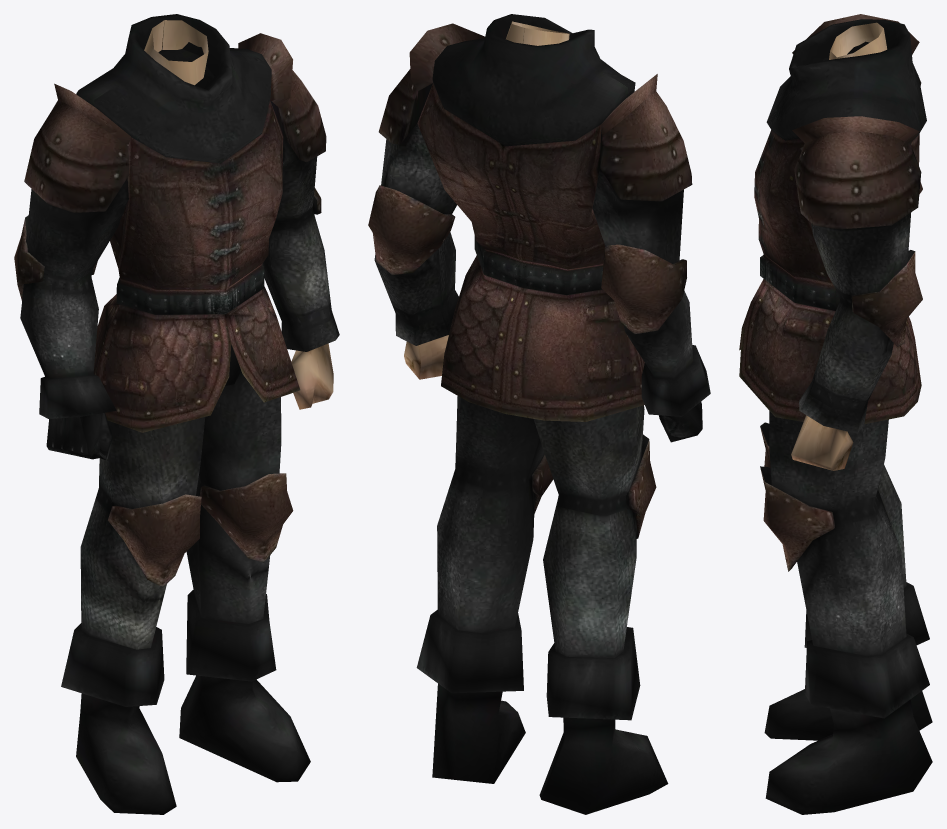
File: KM_BOOTLEG_LEATHER_ARCHER.glb
3 views of the same model, side by side, from view 1: azimuth 30°, elevation 25°; view 2: azimuth 150°, elevation 25°; view 3: azimuth 270°, elevation 25° (orthographic). The views are drawn at different scales.
Parts seen in each view (by area): view 1: KM_BOOTLEG_LEATHER_ARCHER; view 2: KM_BOOTLEG_LEATHER_ARCHER; view 3: KM_BOOTLEG_LEATHER_ARCHER.
Part boxes in pixels (x1,y1,x2,y2): KM_BOOTLEG_LEATHER_ARCHER: [14, 14, 339, 814]; KM_BOOTLEG_LEATHER_ARCHER: [368, 14, 710, 814]; KM_BOOTLEG_LEATHER_ARCHER: [739, 14, 932, 814].
Size of the model in its own units: 0.7223 by 1.7 by 0.4054.
Materials: 2 (2 with a texture image).
